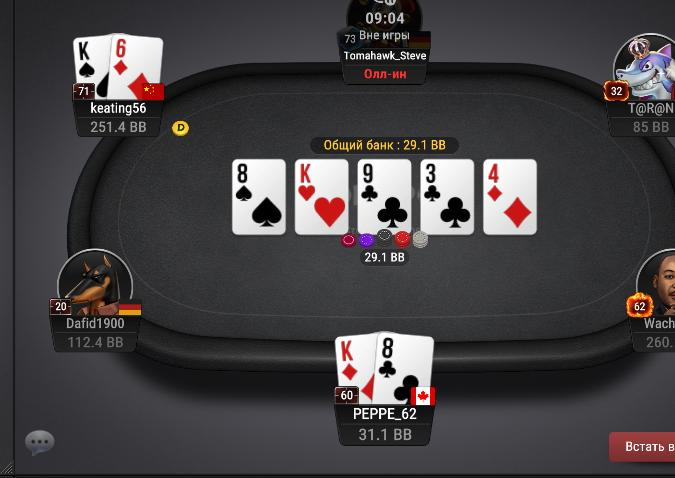3c: (421, 161, 473, 231)
4d: (484, 159, 536, 235)
6d: (111, 32, 165, 101)
8c: (376, 333, 433, 405)
8s: (233, 161, 284, 234)
9c: (358, 161, 410, 231)
Kd: (335, 333, 376, 403)
Kh: (294, 157, 347, 233)
Ks: (73, 32, 111, 100)
